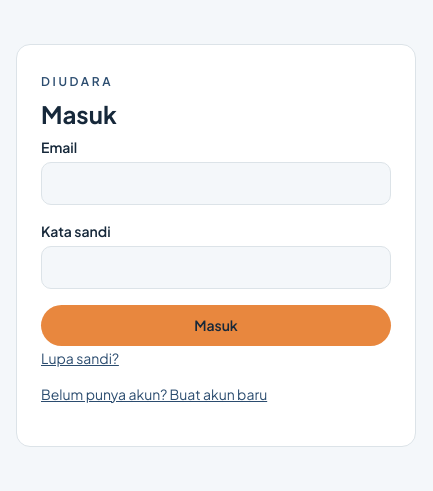
Test: LoginPage › shows ONE generic message for a 401 and never says the account does not exist
Type "nobody@example.com" into the field labelled "Email".
click(216, 183); type("nobody@example.com")  # box [41, 162, 391, 204]
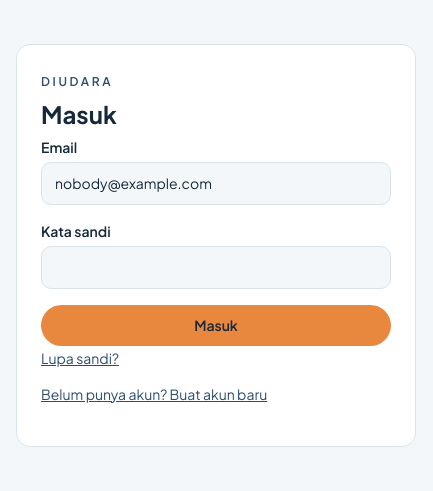
Type "wrongpassword" into the password field labelled "Kata sandi".
click(216, 267); type("wrongpassword")  # box [41, 246, 391, 288]
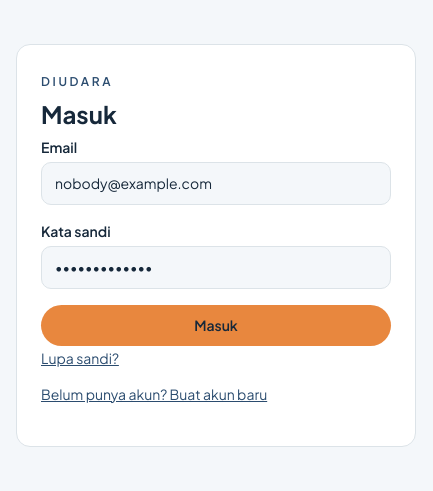
Click the button "Masuk".
click(216, 325)  # box [41, 304, 391, 346]
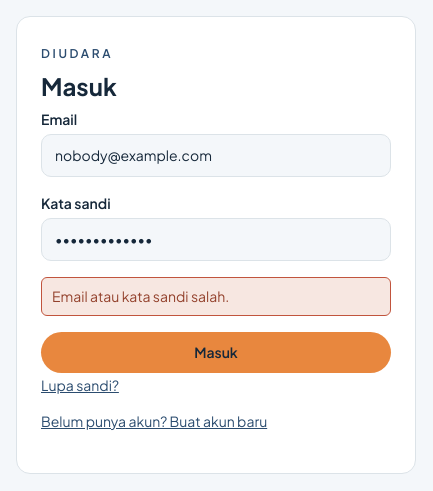
Now the text "Email atau kata sandi salah." is shown, box [41, 277, 391, 316]
